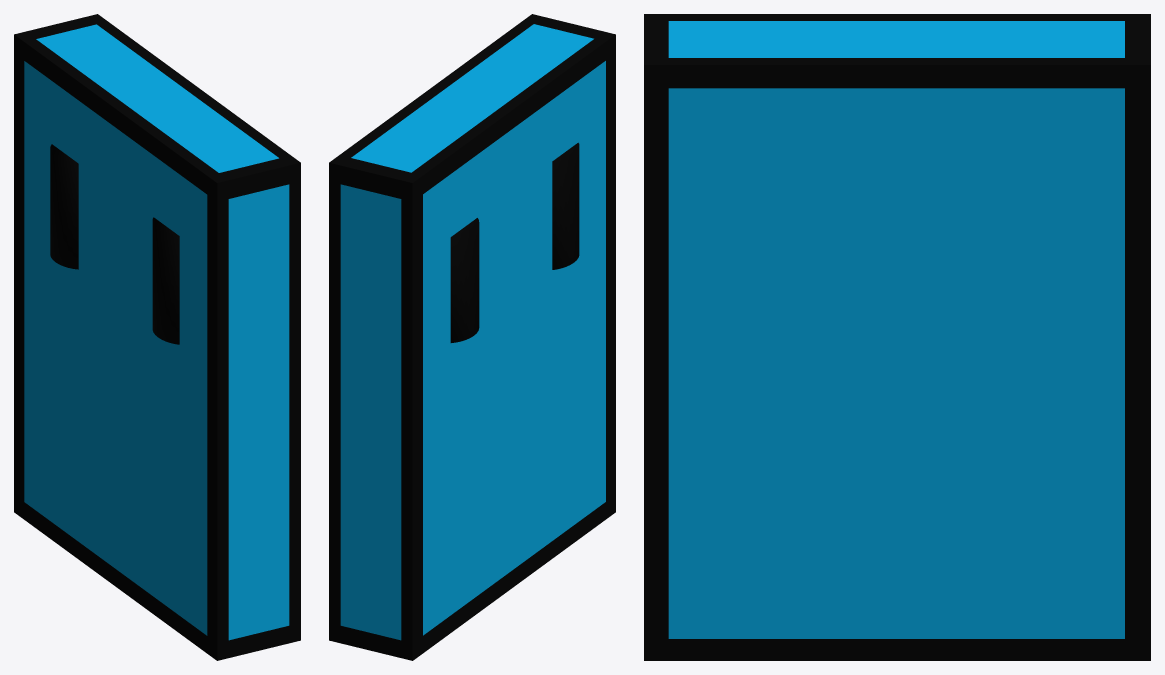
File: kabeteki_kansei.fbx
3 views of the same model, side by side, from view 1: azimuth 30°, elevation 25°; view 2: azimuth 150°, elevation 25°; view 3: azimuth 270°, elevation 25° (orthographic). The views are drawn at different scales.
Visible parts, largest first — view 1: 立方体; view 2: 立方体; view 3: 立方体.
Boxes of the visible parts, <box> form: 立方体: <box>14,14,300,660</box>; 立方体: <box>329,14,615,660</box>; 立方体: <box>644,14,1150,660</box>.
Bounding box in the file's own units: 156 × 762 × 587.
1 material, 1 textured.
